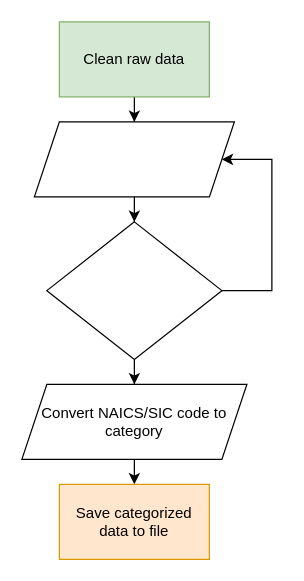
The diagram is 304 pixels wide and 581 high, and some of its shapes have lost their labels. Each missing label, with the centre of its shape:
Extract business names: the point at 133,159
Query data.gov for NAICS/SIC code: the point at 134,290
